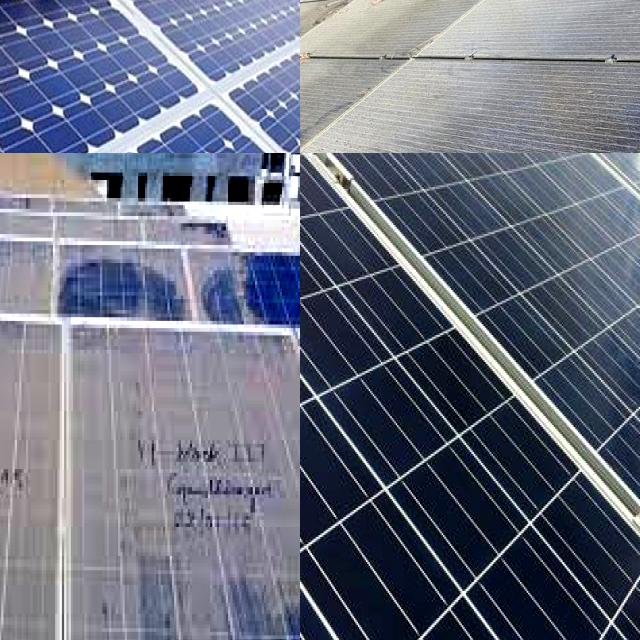crack: (300, 153, 640, 640), (300, 153, 640, 619), (0, 0, 214, 153), (60, 0, 300, 106), (0, 100, 300, 153), (189, 14, 300, 153)
dust: (401, 64, 640, 153), (80, 417, 158, 620), (0, 321, 64, 557), (0, 336, 62, 539), (168, 412, 222, 600), (52, 254, 180, 324), (209, 346, 300, 444), (81, 336, 193, 408), (492, 0, 640, 46), (186, 243, 267, 324), (0, 230, 82, 308), (465, 0, 640, 36), (300, 65, 374, 145), (0, 547, 61, 640), (323, 0, 431, 51), (265, 461, 300, 611), (0, 316, 21, 550), (302, 0, 426, 33), (73, 603, 183, 640), (0, 248, 59, 307), (194, 606, 290, 640), (300, 75, 344, 146)
